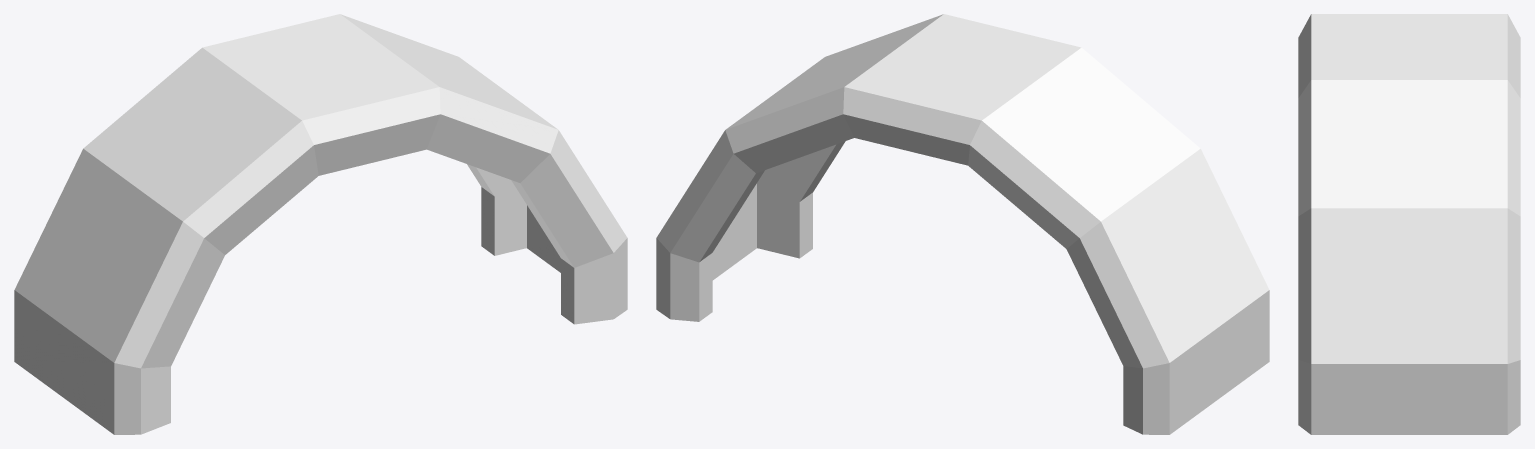
File: Prop_Tire_Half_01.glb
The picture shows the model from 3 angles, left to right: view 1: azimuth 30°, elevation 25°; view 2: azimuth 150°, elevation 25°; view 3: azimuth 270°, elevation 25°; orthographic projection.
Visible parts, largest first — view 1: Prop_Tire_Half_01; view 2: Prop_Tire_Half_01; view 3: Prop_Tire_Half_01.
Part boxes in pixels (box(x1,y1,x2,y2)): Prop_Tire_Half_01: box(14, 14, 627, 434); Prop_Tire_Half_01: box(656, 14, 1269, 434); Prop_Tire_Half_01: box(1298, 14, 1520, 434).
Size of the model in its own units: 0.8017 by 0.4009 by 0.3049.
Materials: 1 (1 with a texture image).
